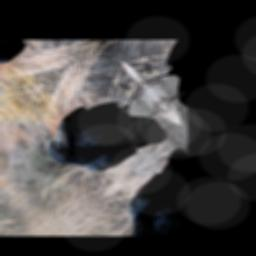Crow: (32, 67, 183, 201)
